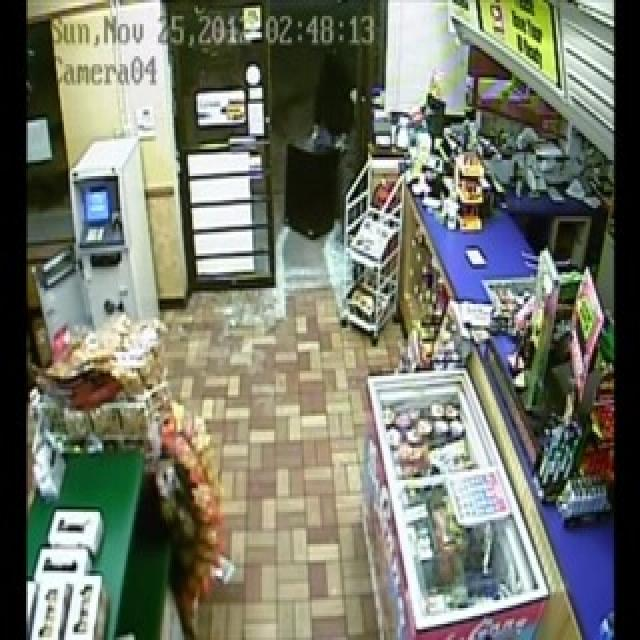thief: (308, 56, 355, 150)
